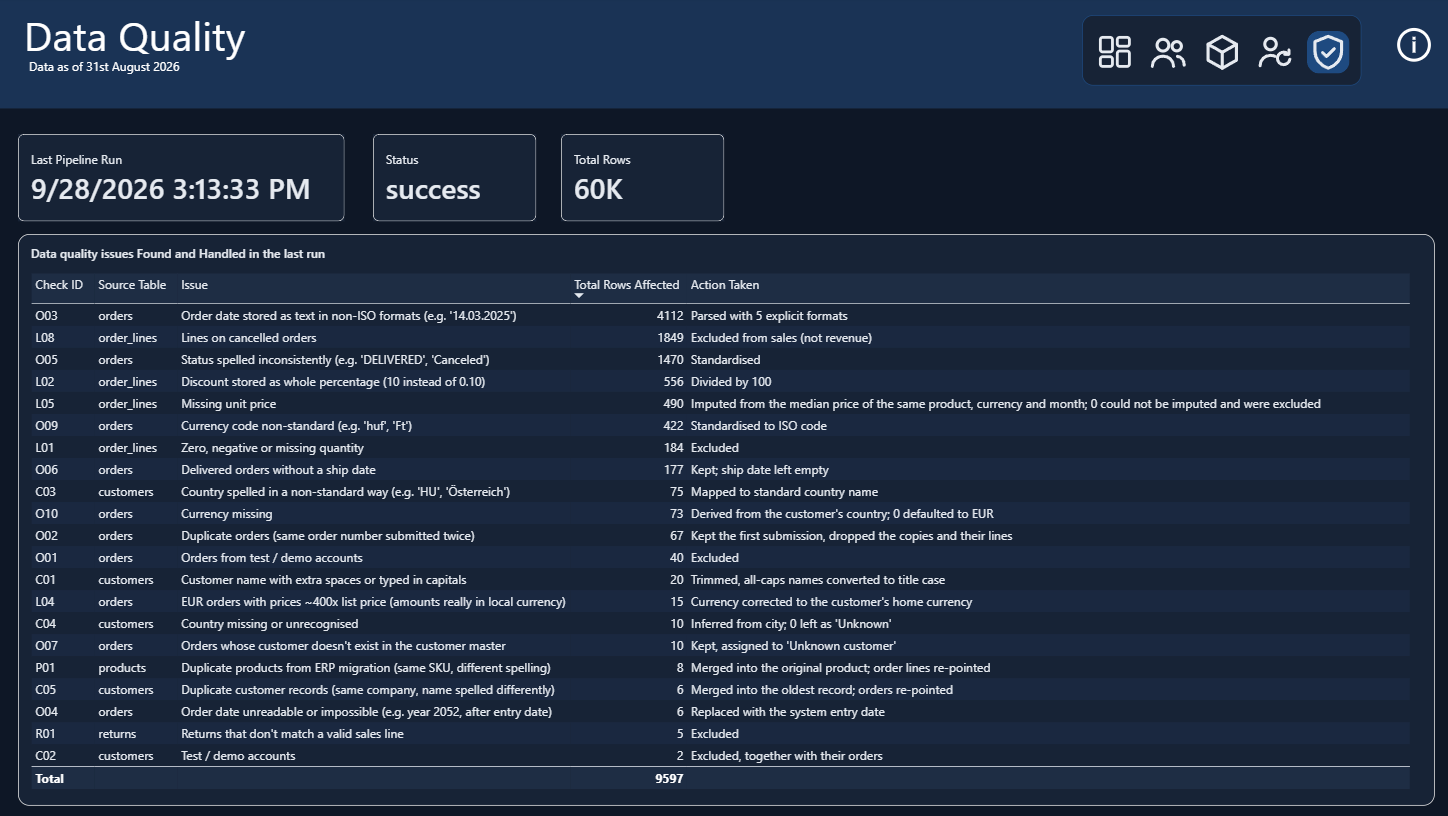

The page's visual inventory and layout, read from the dashboard file:
{"tool":"powerbi","page":{"name":"Page 5 - Data Quality","canvas":[1920,1080],"ordinal":4},"visuals":[{"type":"tableEx","title":"Data quality issues Found and Handled in the last run","fields":{"Values":["etl data_quality_log.check_id","etl data_quality_log.source_table","etl data_quality_log.issue","Sum(etl data_quality_log.rows_affected)","etl data_quality_log.action_taken"]},"box":[30.3,312.3,1866.5,753],"z":3000},{"type":"shape","box":[0,0,1920,146.6],"z":4000},{"type":"textbox","box":[37.5,12.5,488,118],"z":5000},{"type":"textbox","box":[45,80.4,232.9,48.8],"z":6000},{"type":"shape","box":[1431.3,23.7,368.3,93],"z":7000},{"type":"actionButton","box":[1447.9,44.3,55.4,55.4],"z":8000},{"type":"actionButton","box":[1517.9,44.3,56,56],"z":9000},{"type":"actionButton","box":[1587.9,45.2,56,56],"z":10000},{"type":"actionButton","box":[1657.9,45.2,55.4,55.4],"z":11000},{"type":"actionButton","box":[1727.9,45.2,56,56],"z":12000},{"type":"actionButton","box":[1839.6,28.6,57.2,67.9],"z":17000},{"type":"cardVisual","fields":{"Data":["Max(etl pipeline_runs.status)"]},"box":[497.8,180.2,215,115],"z":17125},{"type":"cardVisual","fields":{"Data":["Sum(etl pipeline_runs.fact_sales_rows)"]},"box":[745.9,180.2,215,115],"z":17250},{"type":"cardVisual","fields":{"Data":["Max(etl pipeline_runs.finished_at)"]},"box":[30.3,180.2,430,115],"z":17500}]}

Visuals, with their boxes in screenshot pixels (x1, y1, x2, y2), scaled from the page's 1920x1080 canvas onto the 1448x816 screenshot:
"Data quality issues Found and Handled in the last run" tableEx: 23 236 1431 805
shape: 0 0 1447 111
textbox: 28 9 396 99
textbox: 34 61 210 98
shape: 1079 18 1357 88
actionButton: 1092 33 1134 75
actionButton: 1145 33 1187 76
actionButton: 1198 34 1240 76
actionButton: 1250 34 1292 76
actionButton: 1303 34 1345 76
actionButton: 1387 22 1431 73
cardVisual - Max(etl pipeline_runs.status): 375 136 538 223
cardVisual - Sum(etl pipeline_runs.fact_sales_rows): 563 136 725 223
cardVisual - Max(etl pipeline_runs.finished_at): 23 136 347 223
